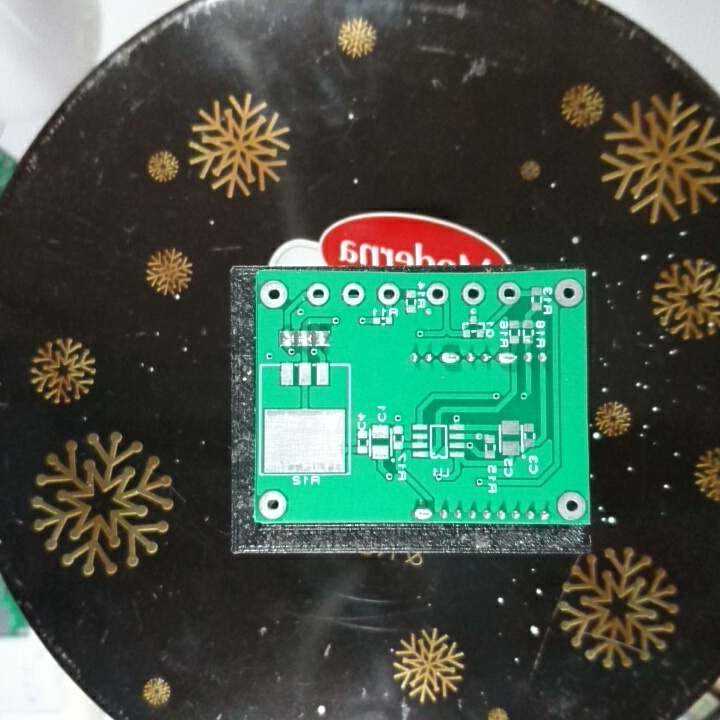F: (256, 488, 290, 523), (555, 489, 587, 521), (551, 278, 583, 308), (258, 280, 289, 309), (460, 280, 486, 308), (305, 281, 331, 308), (341, 280, 365, 309), (376, 282, 401, 309), (424, 280, 449, 307), (497, 280, 521, 306)
P: (494, 349, 519, 366), (411, 506, 434, 523), (438, 349, 462, 365)
